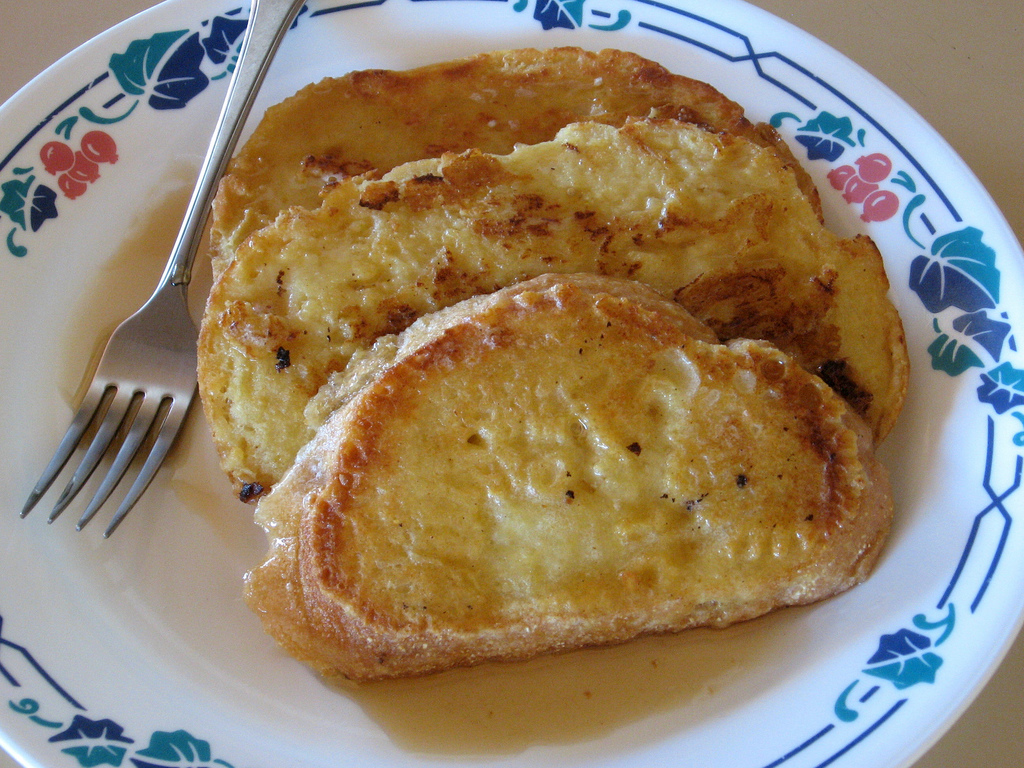slice of bread: (288, 322, 942, 594), (240, 122, 940, 355)
